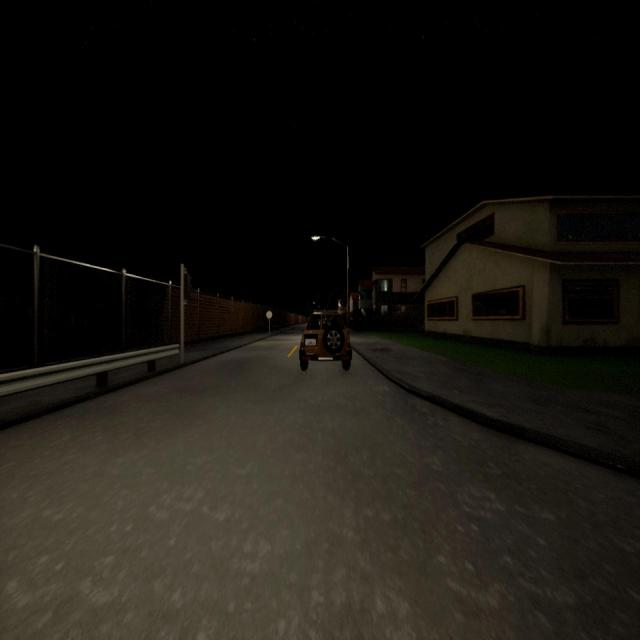Traffic_Signs: (266, 311, 272, 319)
Vehicle: (299, 309, 351, 371)
